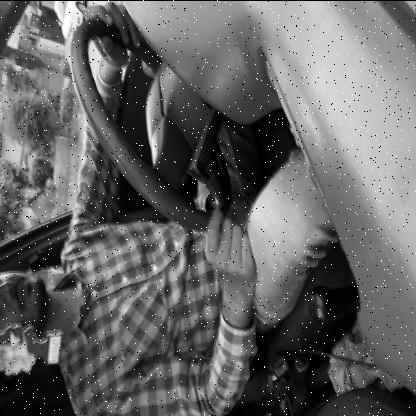no_seatbelt: (0, 210, 189, 366)
